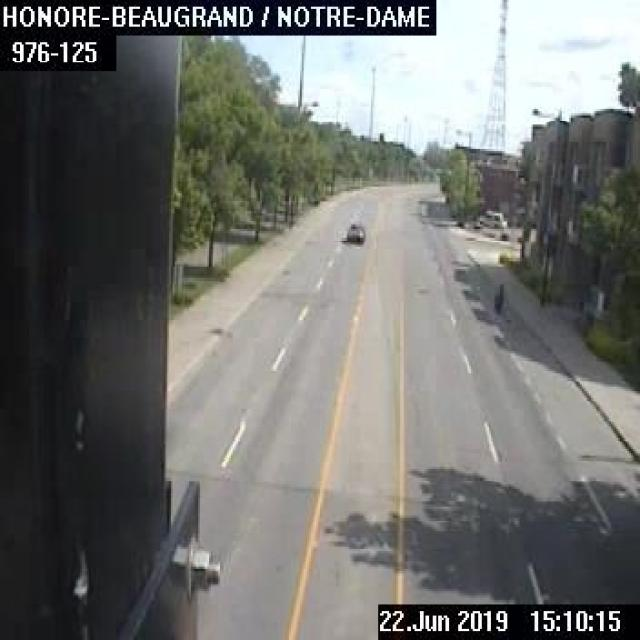cyclist: (491, 280, 503, 312)
vehicle: (477, 208, 506, 227), (345, 219, 364, 243)
